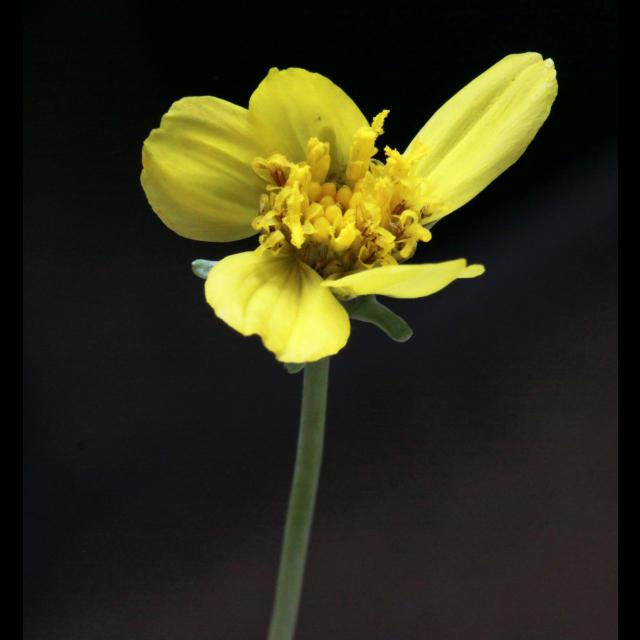Flower: (138, 50, 558, 370)
